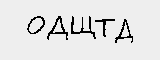Д: (112, 16, 137, 45), (46, 14, 67, 42)
О: (25, 13, 45, 38)
Т: (94, 16, 114, 41)
Щ: (68, 12, 98, 43)
